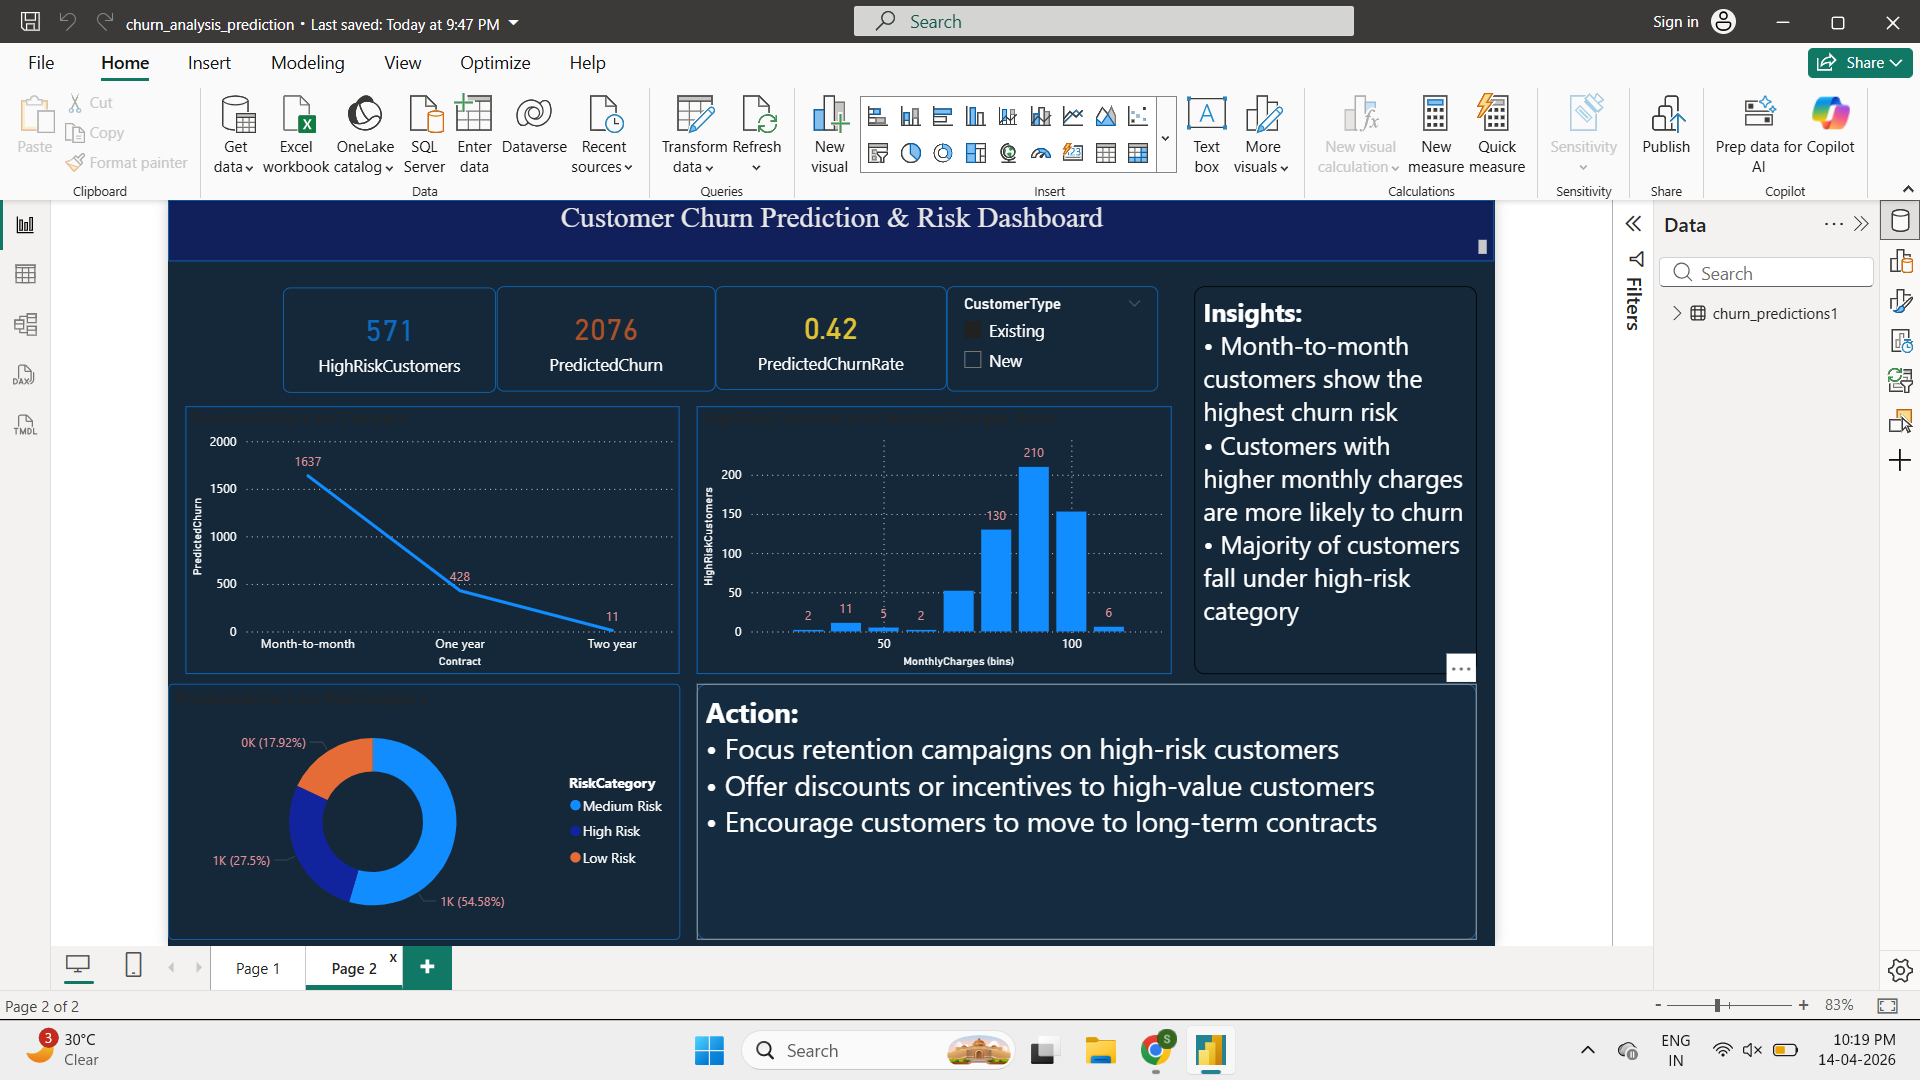

The dashboard page shown, as its layout file describes it:
{"tool":"powerbi","page":{"name":"Page 2","canvas":[1280,720],"ordinal":1},"visuals":[{"type":"textbox","title":"Customer Churn Prediction & Risk Dashboard","box":[0,0,1280,59.4],"z":0},{"type":"card","fields":{"Values":["churn_predictions1.HighRiskCustomers"]},"box":[111.4,84.3,205.7,101.4],"z":1},{"type":"card","fields":{"Values":["churn_predictions1.PredictedChurnRate"]},"box":[528.6,82.9,222.9,100],"z":2},{"type":"card","fields":{"Values":["churn_predictions1.PredictedChurn"]},"box":[317.1,82.9,211.4,101.4],"z":3},{"type":"lineChart","fields":{"Category":["churn_predictions1.Contract"],"Y":["churn_predictions1.PredictedChurn"]},"box":[17.1,198.6,477.1,258.6],"z":4},{"type":"donutChart","fields":{"Category":["churn_predictions1.RiskCategory"],"Y":["churn_predictions1.PredictedChurn"]},"box":[0,467.1,494.3,247.1],"z":5},{"type":"lineStackedColumnComboChart","fields":{"Category":["churn_predictions1.MonthlyCharges (bins)"],"Y":["churn_predictions1.HighRiskCustomers"]},"box":[510,198.6,458.6,258.6],"z":6},{"type":"slicer","fields":{"Values":["churn_predictions1.CustomerType"]},"box":[751.4,82.9,204.3,101.4],"z":7},{"type":"textbox","box":[990,82.9,272.9,374.3],"z":8},{"type":"textbox","box":[510,467.1,752.9,247.1],"z":9}]}

Visuals, with their boxes on the page's 1280x720 design canvas (x1, y1, x2, y2). These are canvas units, not pixel positions in the 1920x1080 screenshot, which may show the page scaled, cropped or inside an application window:
"Customer Churn Prediction & Risk Dashboard" textbox: [x1=0, y1=0, x2=1280, y2=59]
card - churn_predictions1.HighRiskCustomers: [x1=111, y1=84, x2=317, y2=186]
card - churn_predictions1.PredictedChurnRate: [x1=529, y1=83, x2=752, y2=183]
card - churn_predictions1.PredictedChurn: [x1=317, y1=83, x2=528, y2=184]
lineChart - churn_predictions1.Contract x churn_predictions1.PredictedChurn: [x1=17, y1=199, x2=494, y2=457]
donutChart - churn_predictions1.RiskCategory x churn_predictions1.PredictedChurn: [x1=0, y1=467, x2=494, y2=714]
lineStackedColumnComboChart - churn_predictions1.MonthlyCharges (bins) x churn_predictions1.HighRiskCustomers: [x1=510, y1=199, x2=969, y2=457]
slicer - churn_predictions1.CustomerType: [x1=751, y1=83, x2=956, y2=184]
textbox: [x1=990, y1=83, x2=1263, y2=457]
textbox: [x1=510, y1=467, x2=1263, y2=714]
